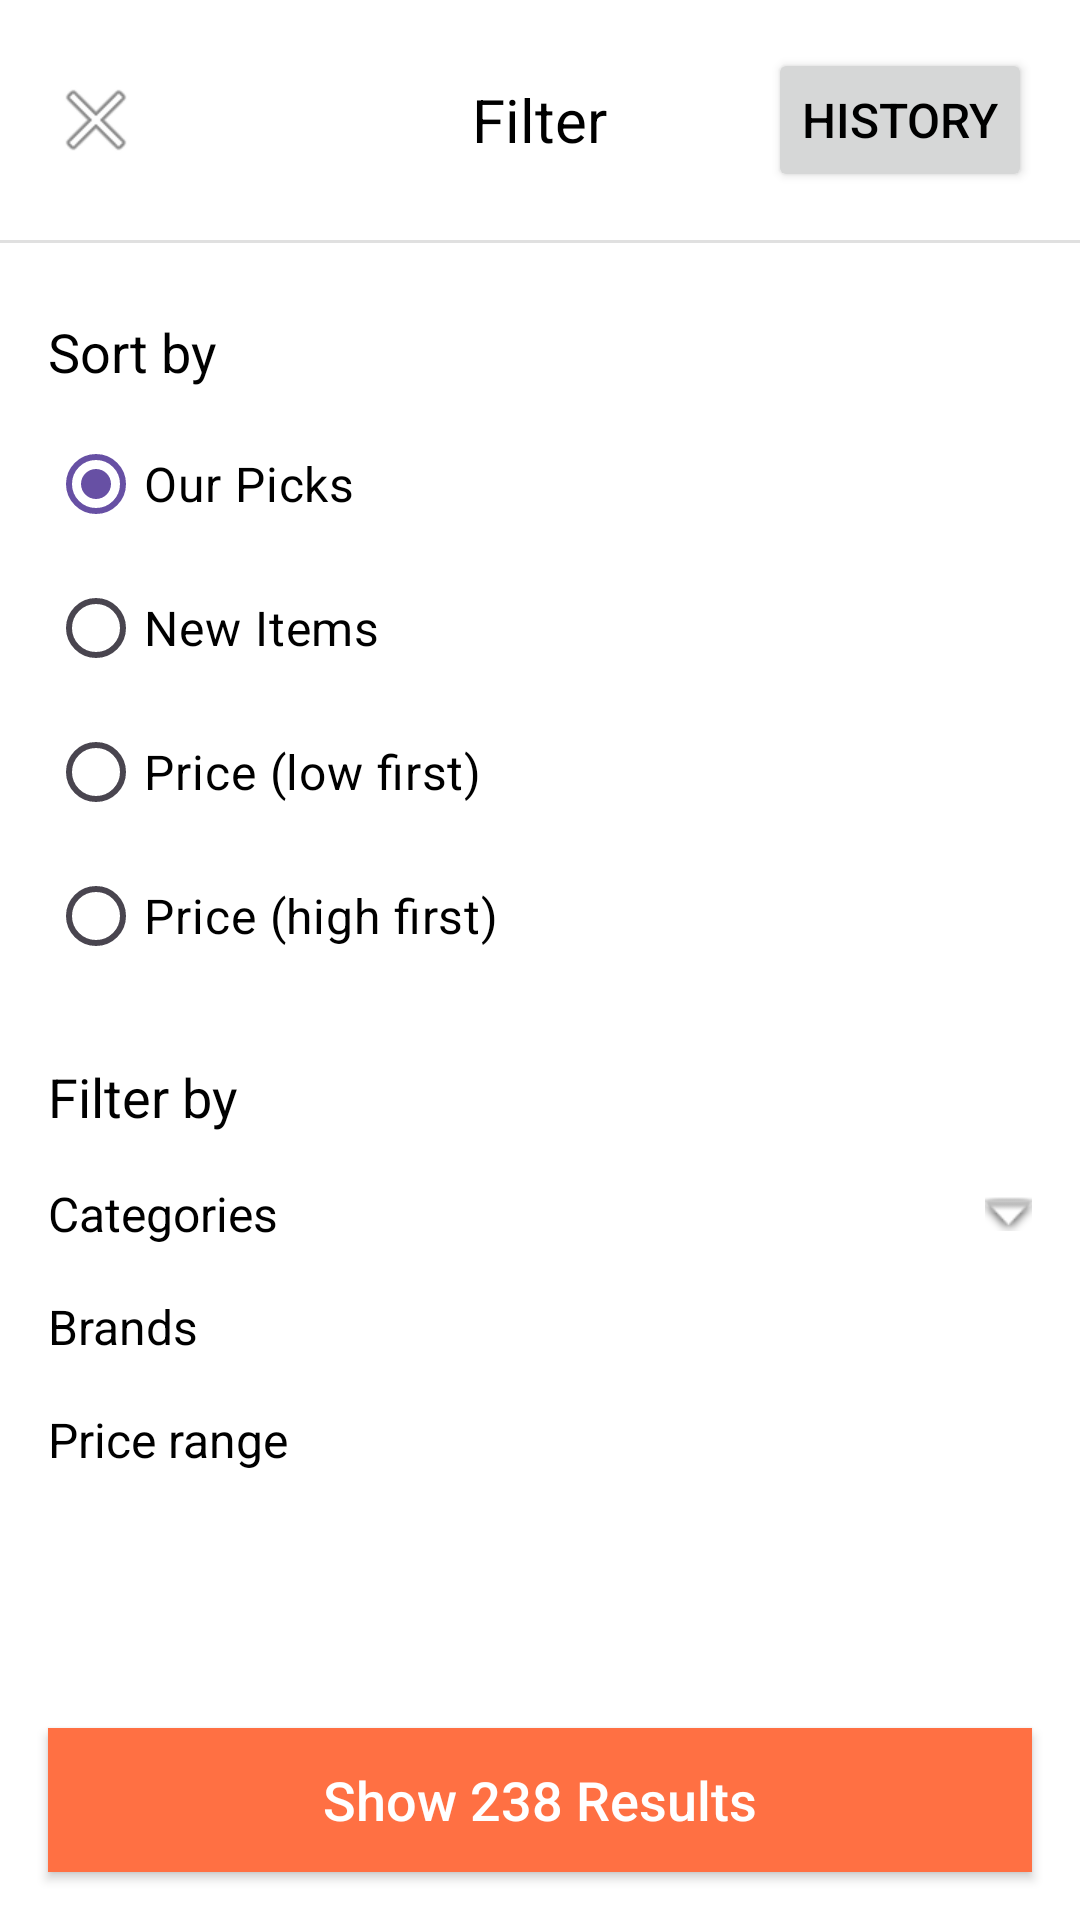

Point at icon controls on the screen. Image size 1080 × 1920, points as [x,y].
arrow down float: [1008,1214]
close clear cancel: [96,120]
